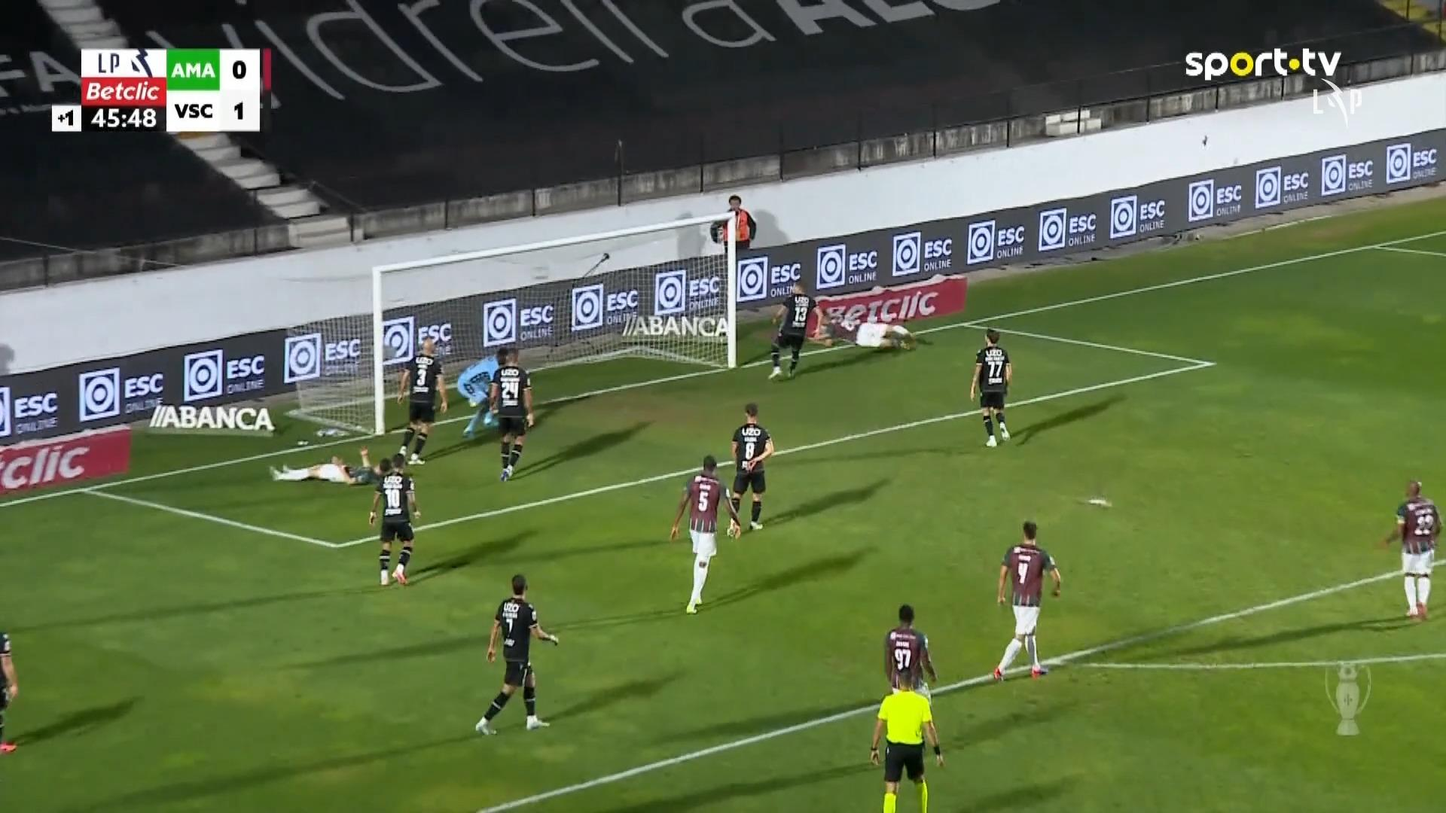goalkeeper: (459, 349, 504, 438)
player: (474, 573, 559, 735), (668, 453, 741, 614), (991, 519, 1061, 681), (1378, 478, 1442, 620), (368, 452, 420, 586), (485, 346, 535, 482), (395, 336, 448, 464), (725, 402, 774, 535), (767, 279, 822, 380), (883, 602, 937, 701), (969, 327, 1012, 447), (267, 446, 390, 485), (825, 311, 917, 352), (0, 631, 19, 753)
referee: (868, 665, 944, 811)
